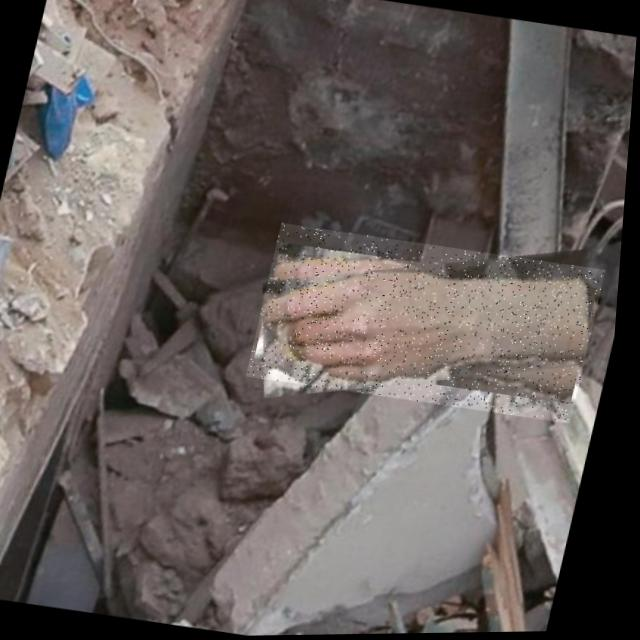Person in Rubble: (249, 220, 613, 429)
